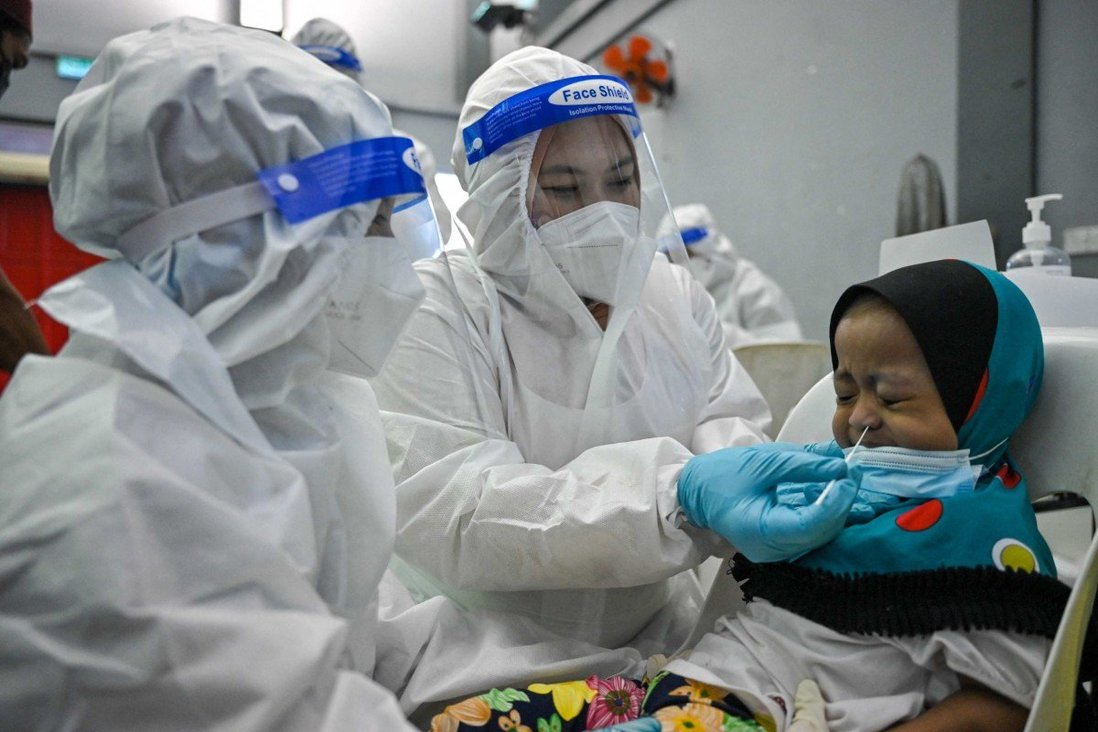Coverall: (1, 17, 420, 732), (383, 33, 774, 672)
Face_Shield: (232, 130, 480, 404), (463, 69, 700, 291)
Gloves: (655, 434, 867, 568)
mask_weared_incorrect: (829, 355, 962, 511)
with_mask: (306, 189, 431, 389), (527, 120, 652, 307)
